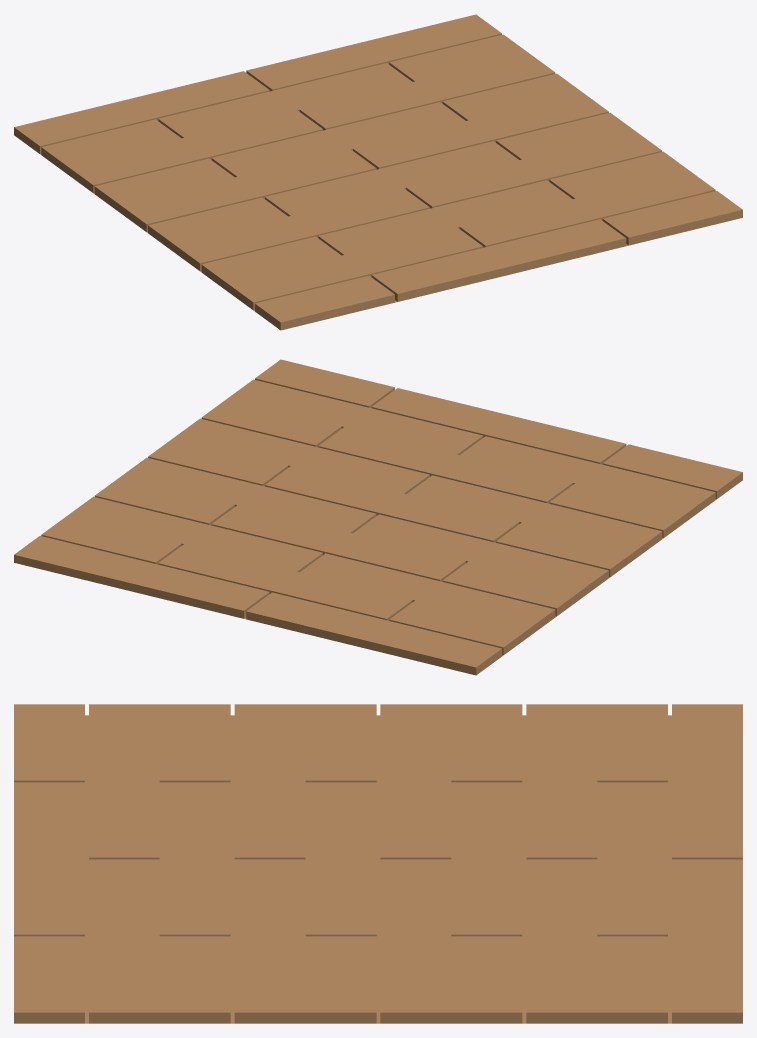
Rendered from Floor.fbx.
The picture shows the model from 3 angles, top to bottom: view 1: azimuth 30°, elevation 25°; view 2: azimuth 150°, elevation 25°; view 3: azimuth 270°, elevation 25°; orthographic projection. The views are drawn at different scales.
Visible parts, largest first — view 1: FloorPane; view 2: FloorPane; view 3: FloorPane.
Boxes of the visible parts, <box> form: FloorPane: <box>14,14,742,330</box>; FloorPane: <box>14,359,742,675</box>; FloorPane: <box>14,704,742,1023</box>.
Size of the model in its own units: 791 by 13.18 by 791.
